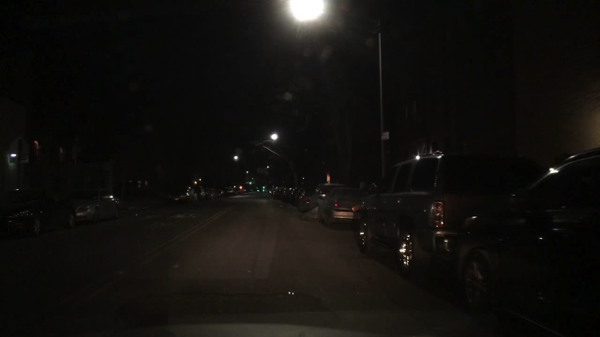car: (447, 147, 600, 337), (357, 150, 541, 277), (0, 189, 80, 239), (62, 187, 122, 222), (318, 189, 367, 227), (309, 186, 345, 215), (165, 184, 198, 205), (296, 187, 315, 212), (193, 184, 206, 199), (287, 188, 299, 204), (279, 187, 290, 201), (273, 186, 285, 198), (204, 188, 217, 198), (236, 186, 247, 193), (267, 186, 275, 195), (226, 188, 236, 195), (215, 189, 224, 196)
traffic light: (262, 186, 266, 194), (248, 181, 253, 187)
traffic sign: (7, 138, 30, 163), (381, 132, 391, 140)
